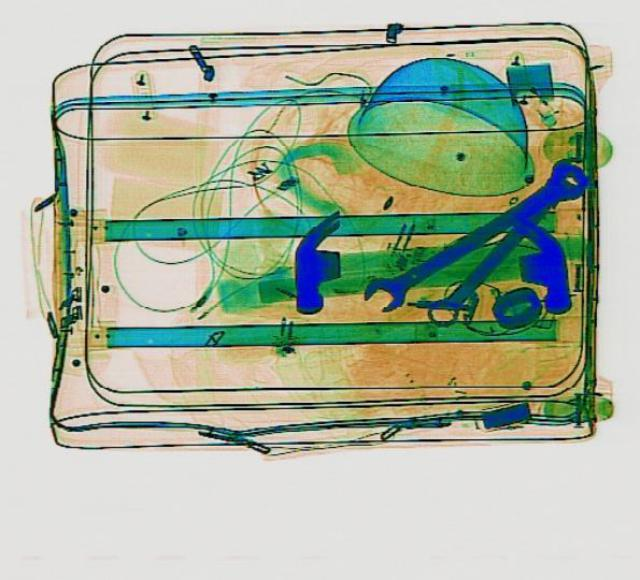Wrench: (356, 159, 592, 313), (420, 150, 590, 328)
